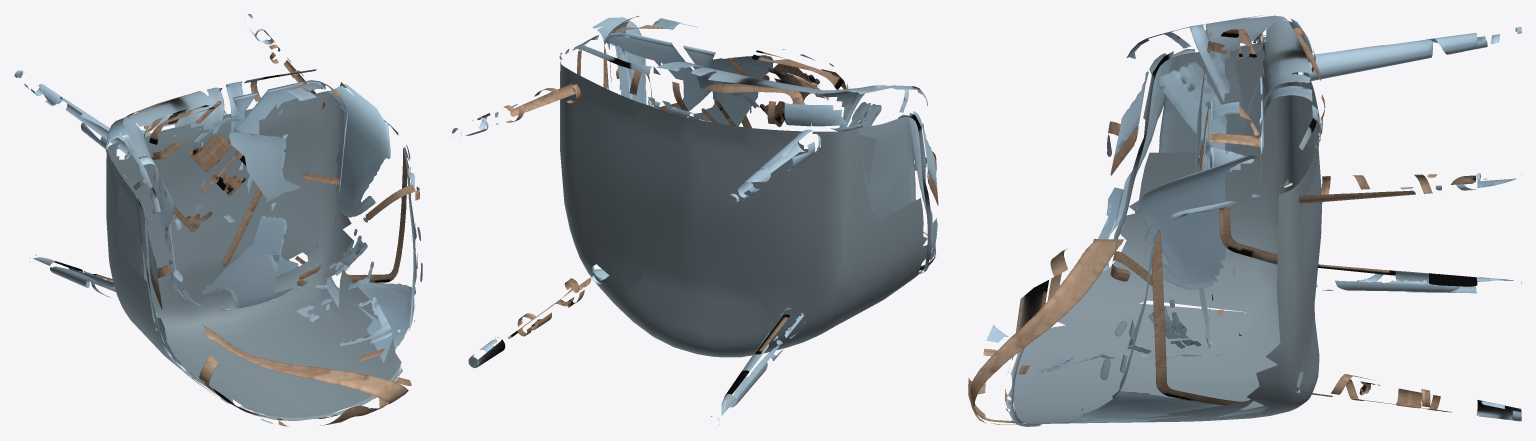
The picture shows the model from 3 angles, left to right: view 1: azimuth 30°, elevation 25°; view 2: azimuth 150°, elevation 25°; view 3: azimuth 270°, elevation 25°; orthographic projection. The views are drawn at different scales.
Size of the model in its own units: 0.6 by 0.5434 by 0.8335.
